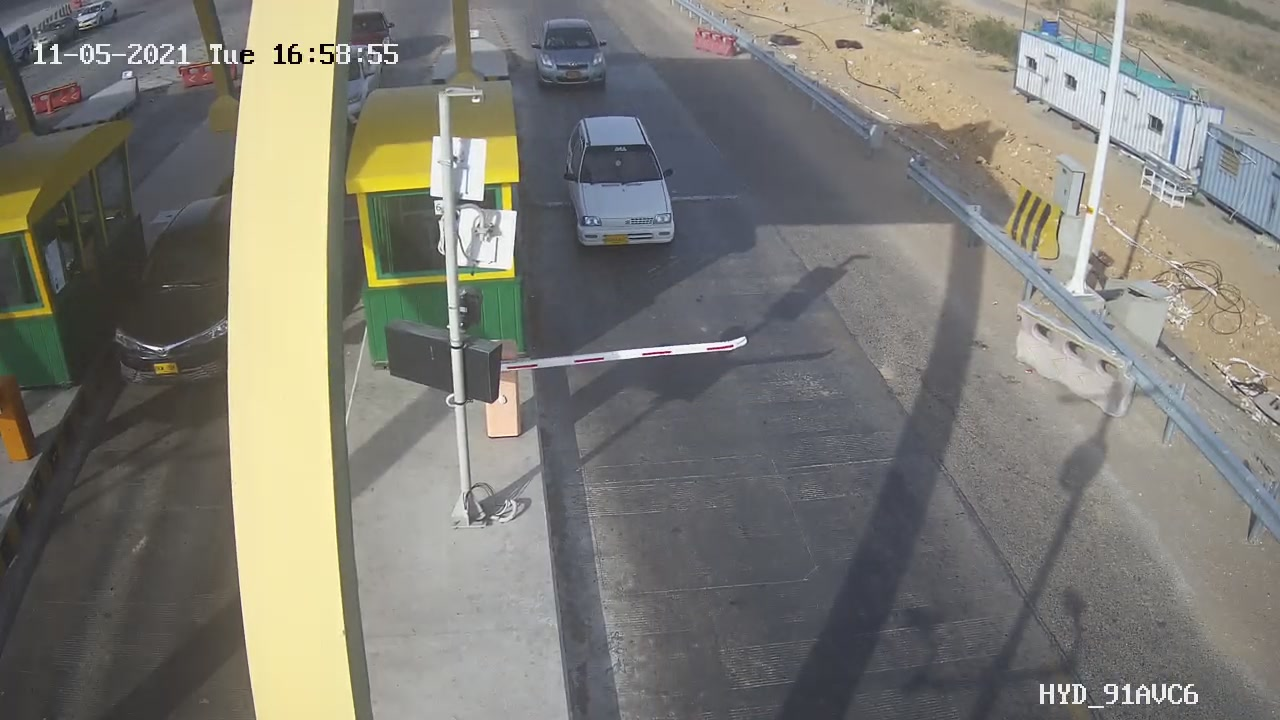F1: (547, 103, 692, 268), (520, 12, 633, 103)
